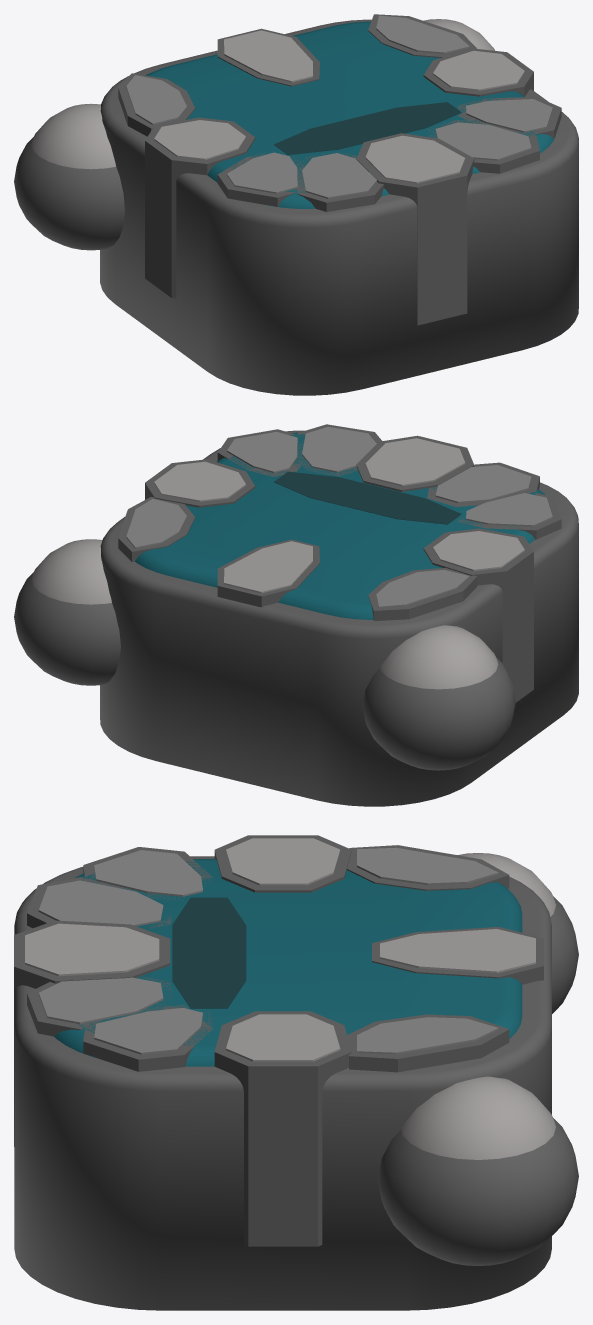
The model's file is body_portal_pedra.fbx.
3 views of the same model, one above another, from view 1: azimuth 30°, elevation 25°; view 2: azimuth 150°, elevation 25°; view 3: azimuth 270°, elevation 25° (orthographic). The views are drawn at different scales.
Visible parts, largest first — view 1: body_portal_pedra_corpo, body_portal_pedra_mao_esq, body_portal_pedra_mao; view 2: body_portal_pedra_corpo, body_portal_pedra_mao_esq, body_portal_pedra_mao; view 3: body_portal_pedra_corpo, body_portal_pedra_mao, body_portal_pedra_mao_esq.
Boxes of the visible parts, x1,y1,x2,y2 form: body_portal_pedra_corpo: [100, 14, 578, 395]; body_portal_pedra_mao_esq: [14, 103, 124, 250]; body_portal_pedra_mao: [423, 19, 495, 50]; body_portal_pedra_corpo: [100, 424, 578, 806]; body_portal_pedra_mao_esq: [362, 625, 515, 770]; body_portal_pedra_mao: [14, 539, 120, 685]; body_portal_pedra_corpo: [14, 835, 551, 1310]; body_portal_pedra_mao: [378, 1076, 578, 1265]; body_portal_pedra_mao_esq: [457, 853, 578, 1013].
Bounding box in the file's own units: 5.4 × 2.04 × 4.2.
Materials: 1 (1 with a texture image).
